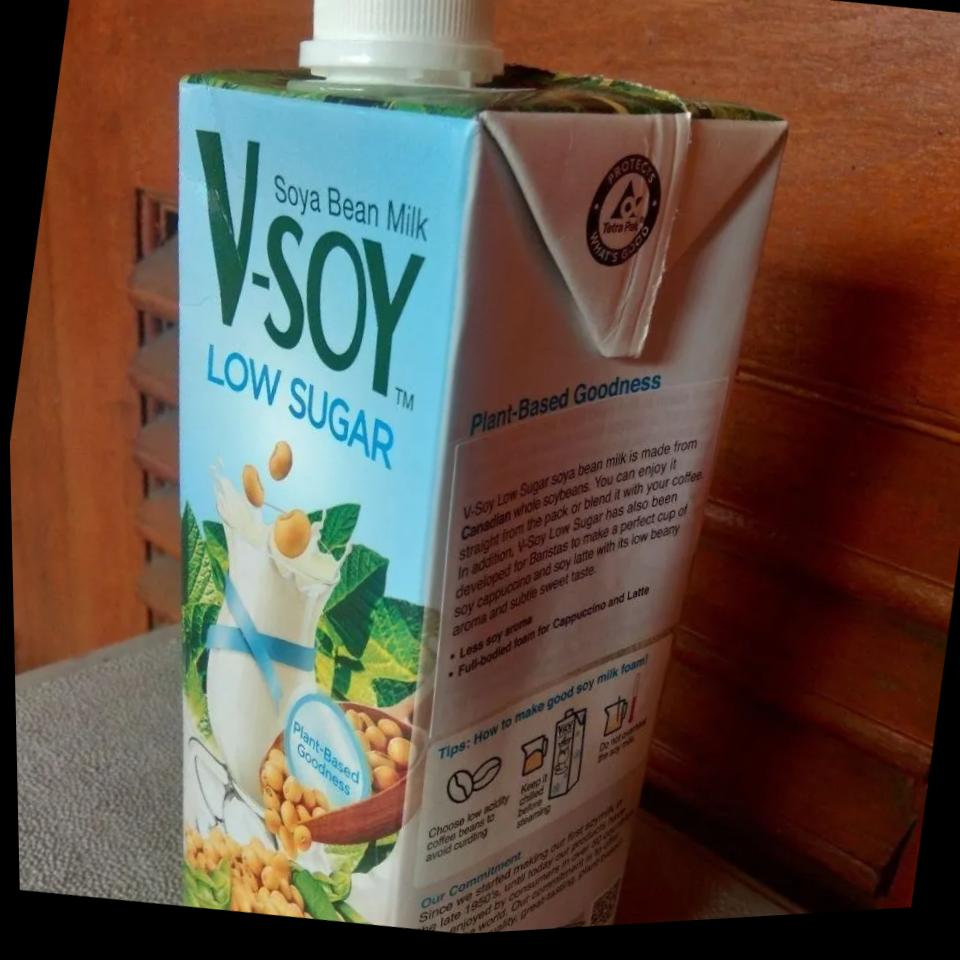cardboard: (38, 0, 828, 958)
